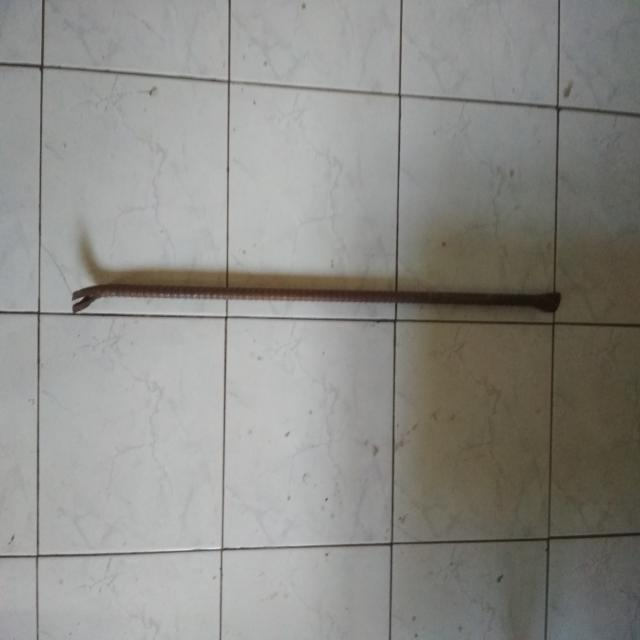Linggis: (75, 274, 562, 335)
